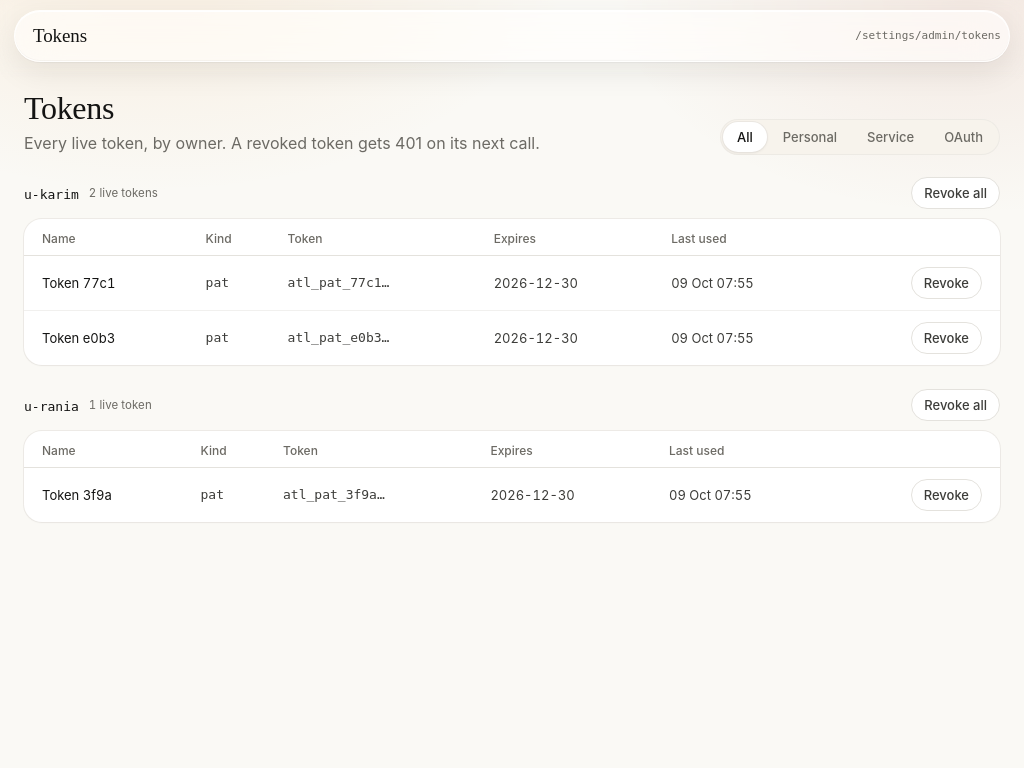
AdminTokensPage › a kind filter hides revoke all: it would revoke tokens the filtered list hides
Click the radio button labelled "Personal" at (810, 137), box x1=769 y1=122 x2=851 y2=152
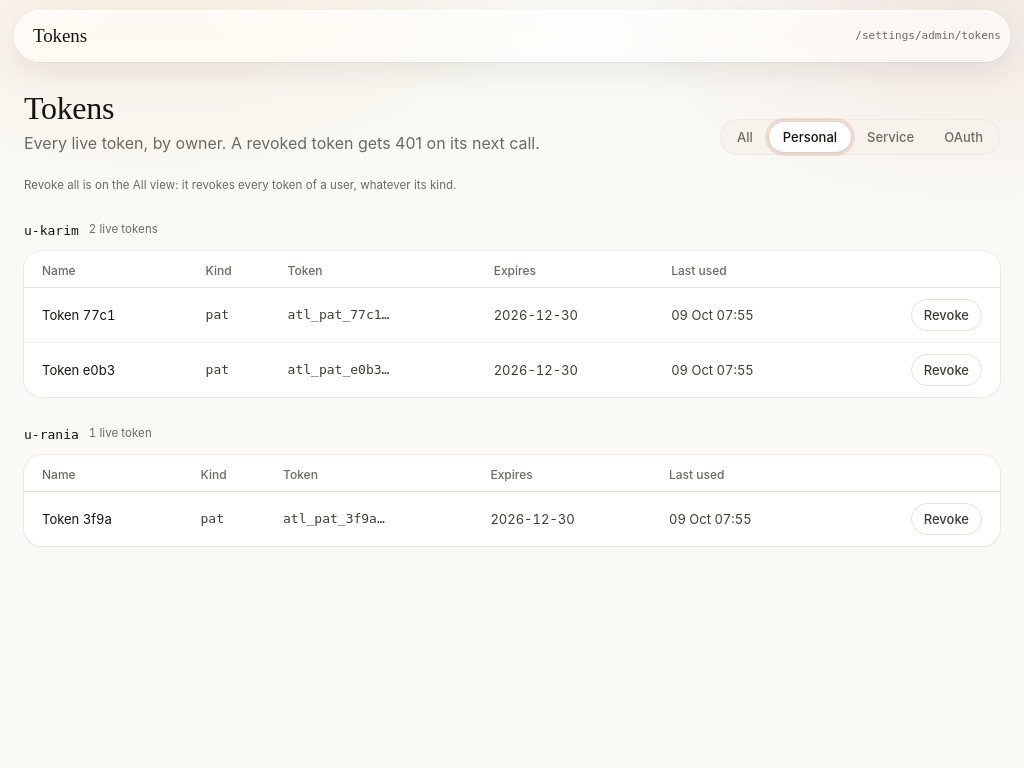
expect the button with aria-label "Revoke Token 77c1" is shown: met, box x1=911 y1=299 x2=982 y2=331
expect the text "Revoke all is on the All view" is shown: met, box x1=24 y1=178 x2=456 y2=192
